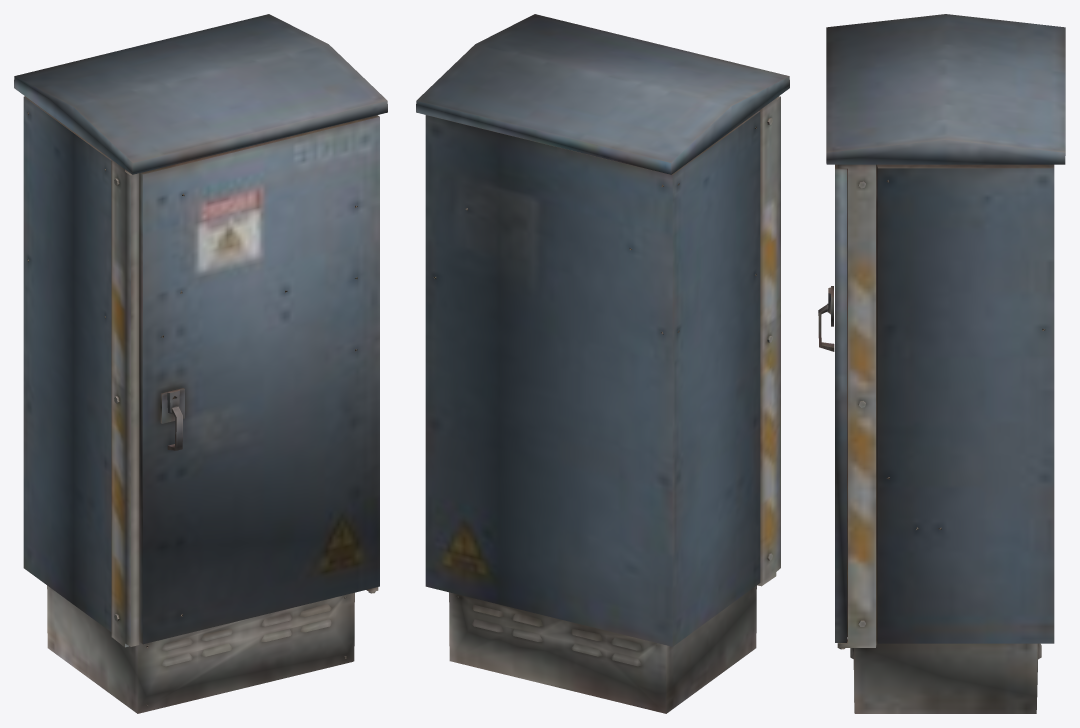
Rendered from utility_box.glb.
3 views of the same model, side by side, from view 1: azimuth 30°, elevation 25°; view 2: azimuth 150°, elevation 25°; view 3: azimuth 270°, elevation 25° (orthographic).
Parts seen in each view (by area): view 1: utility_box; view 2: utility_box; view 3: utility_box.
Boxes of the visible parts, bbox=[...] form: utility_box: bbox=[14, 14, 387, 713]; utility_box: bbox=[416, 14, 789, 713]; utility_box: bbox=[818, 14, 1065, 713].
Bounding box in the file's own units: 0.5164 × 1.12 × 0.4287.
Materials: 1 (1 with a texture image).
